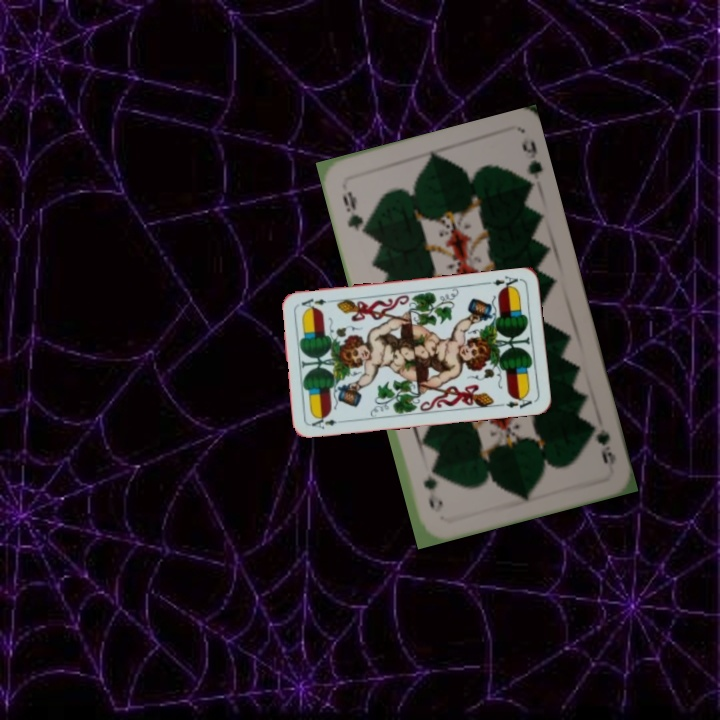EA: (307, 412, 348, 432), (489, 272, 523, 293)
G9: (583, 416, 619, 467), (338, 187, 369, 236)
